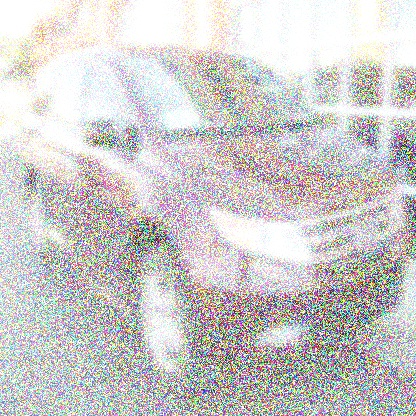Vehicle: (20, 44, 411, 396)
